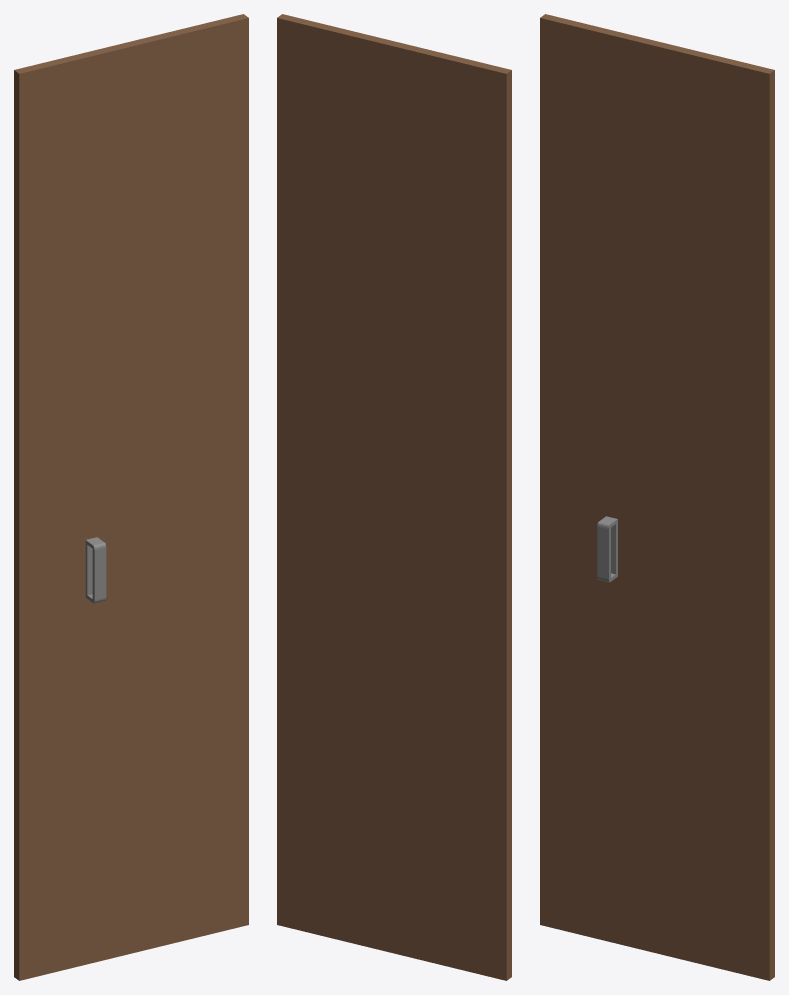
File: Pantry_Door_R.fbx
3 views of the same model, side by side, from view 1: azimuth 30°, elevation 25°; view 2: azimuth 150°, elevation 25°; view 3: azimuth 330°, elevation 25° (orthographic).
Visible parts, largest first — view 1: Pantry Door R; view 2: Pantry Door R; view 3: Pantry Door R.
Part boxes in pixels (x1,y1,x2,y2): Pantry Door R: (14,14,248,980); Pantry Door R: (277,14,511,980); Pantry Door R: (540,14,774,980).
Bounding box in the file's own units: 698 × 2637 × 75.33.
